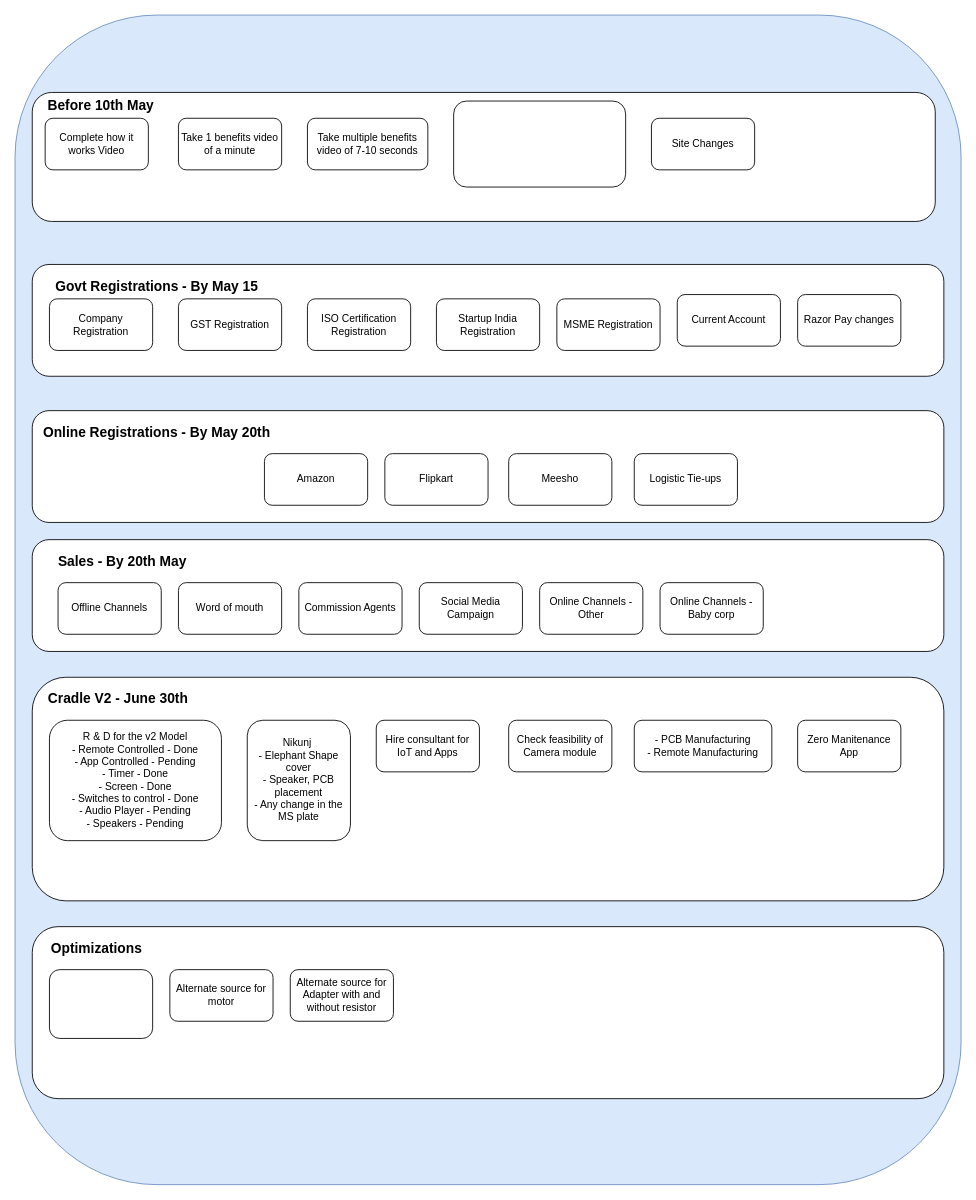
Image size: 976x1200. Some labels were removed from this diagram. Each missing label, with the centre of its shape:
"Alternate source for the casting, Machining, Buffing, Bearing fitting." goes at point 101,1003.
"Find Suppliers of Khodiya, Pangla, Ghodiya - Get Photos of the products" goes at point 539,143.
